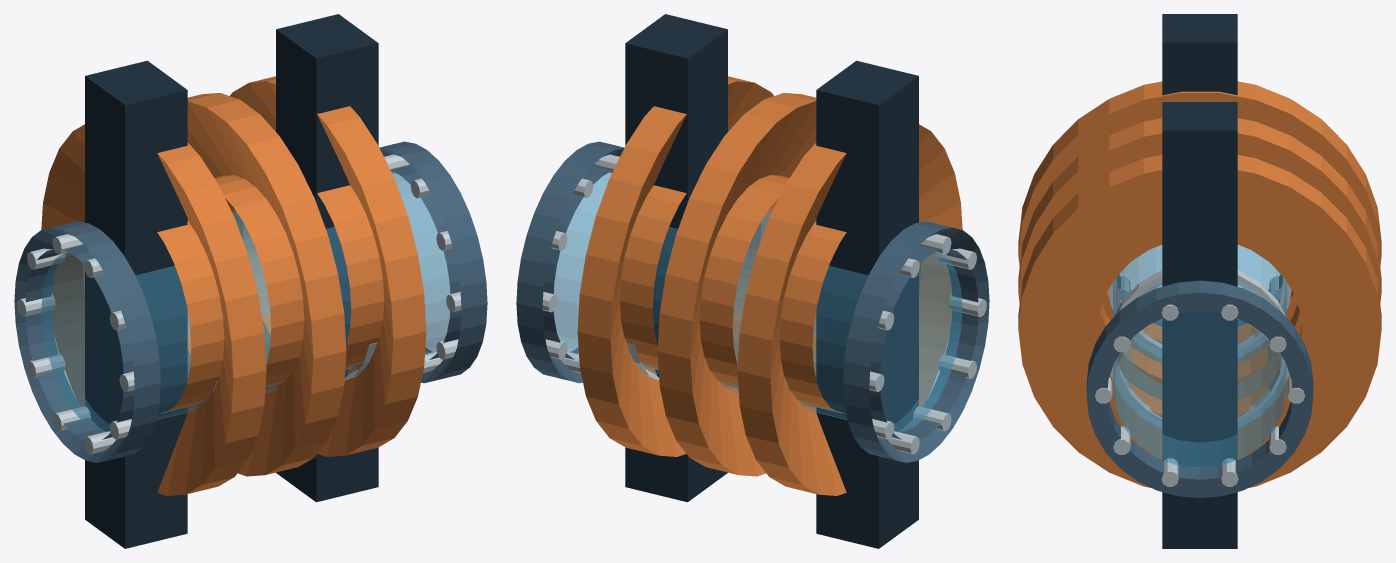
The model's file is 10_L75_BeamEnergySelectionModule.fbx.
3 renders of one model, left to right at view 1: azimuth 30°, elevation 25°; view 2: azimuth 150°, elevation 25°; view 3: azimuth 270°, elevation 25°, orthographic. The views are drawn at different scales.
Visible parts, largest first — view 1: BeamEnergySelectionModule, BeamEnergySelectionModule_Part_0025, BeamEnergySelectionModule_Part_0026, BeamEnergySelectionModule_Part_0027; view 2: BeamEnergySelectionModule, BeamEnergySelectionModule_Part_0025, BeamEnergySelectionModule_Part_0026, BeamEnergySelectionModule_Part_0027; view 3: BeamEnergySelectionModule, BeamEnergySelectionModule_Part_0027, BeamEnergySelectionModule_Part_0026, BeamEnergySelectionModule_Part_0025.
Boxes of the visible parts, <box> form: BeamEnergySelectionModule: <box>14,14,487,548</box>; BeamEnergySelectionModule_Part_0025: <box>41,124,266,495</box>; BeamEnergySelectionModule_Part_0026: <box>187,93,346,476</box>; BeamEnergySelectionModule_Part_0027: <box>225,76,426,456</box>; BeamEnergySelectionModule: <box>516,14,989,548</box>; BeamEnergySelectionModule_Part_0025: <box>737,124,962,495</box>; BeamEnergySelectionModule_Part_0026: <box>657,93,816,476</box>; BeamEnergySelectionModule_Part_0027: <box>577,76,778,456</box>; BeamEnergySelectionModule: <box>1086,14,1313,548</box>; BeamEnergySelectionModule_Part_0027: <box>1018,155,1381,487</box>; BeamEnergySelectionModule_Part_0026: <box>1018,118,1381,399</box>; BeamEnergySelectionModule_Part_0025: <box>1018,81,1381,363</box>.
Bounding box in the file's own units: 102 × 122 × 96.
